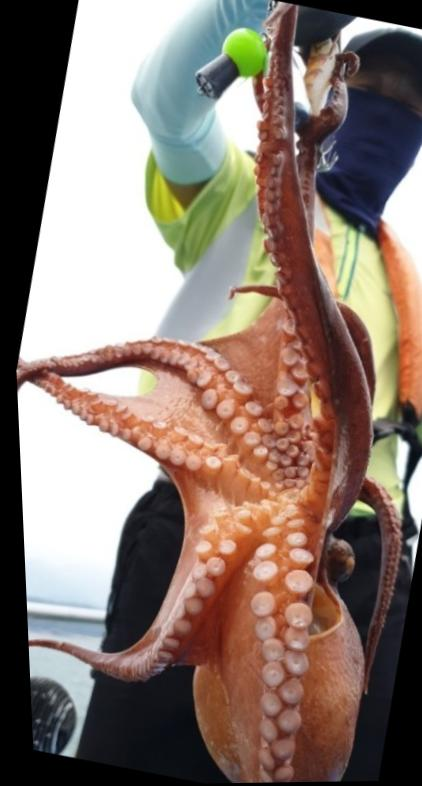Cephalopod: (13, 2, 396, 784)
